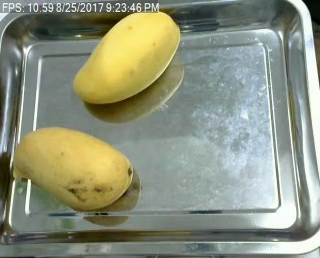Mango: (14, 123, 136, 212), (72, 10, 180, 107)
